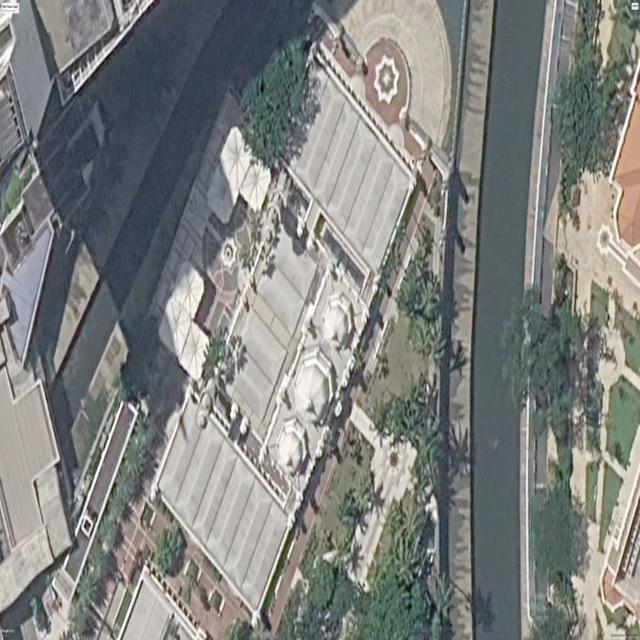mosque: (158, 47, 415, 617)
